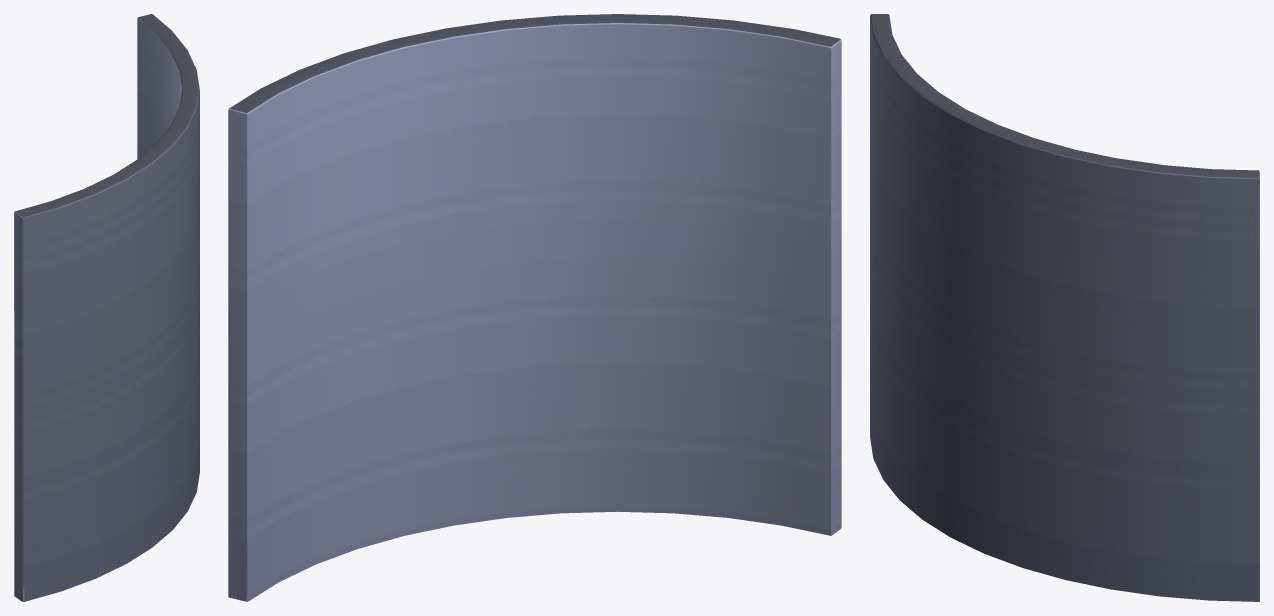
File: wall-corner-round.glb
3 views of the same model, side by side, from view 1: azimuth 30°, elevation 25°; view 2: azimuth 150°, elevation 25°; view 3: azimuth 270°, elevation 25° (orthographic). The views are drawn at different scales.
Parts seen in each view (by area): view 1: wall-corner-round; view 2: wall-corner-round; view 3: wall-corner-round.
Boxes of the visible parts, <box> form: wall-corner-round: <box>14,14,199,601</box>; wall-corner-round: <box>228,14,841,601</box>; wall-corner-round: <box>870,14,1259,601</box>.
Bounding box in the file's own units: 2 × 2.4 × 2.
Materials: 1 (1 with a texture image).
